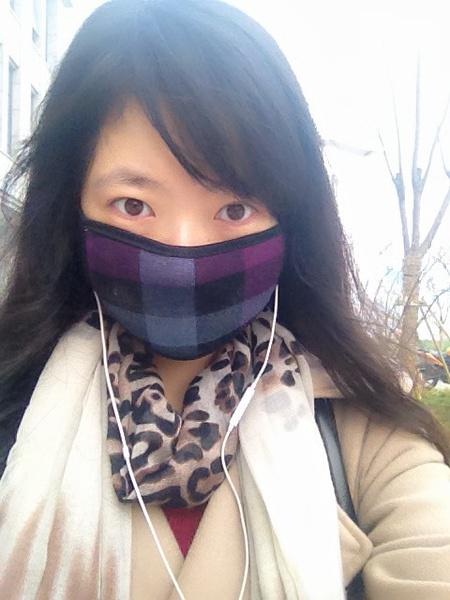OK: (85, 156, 288, 359)
